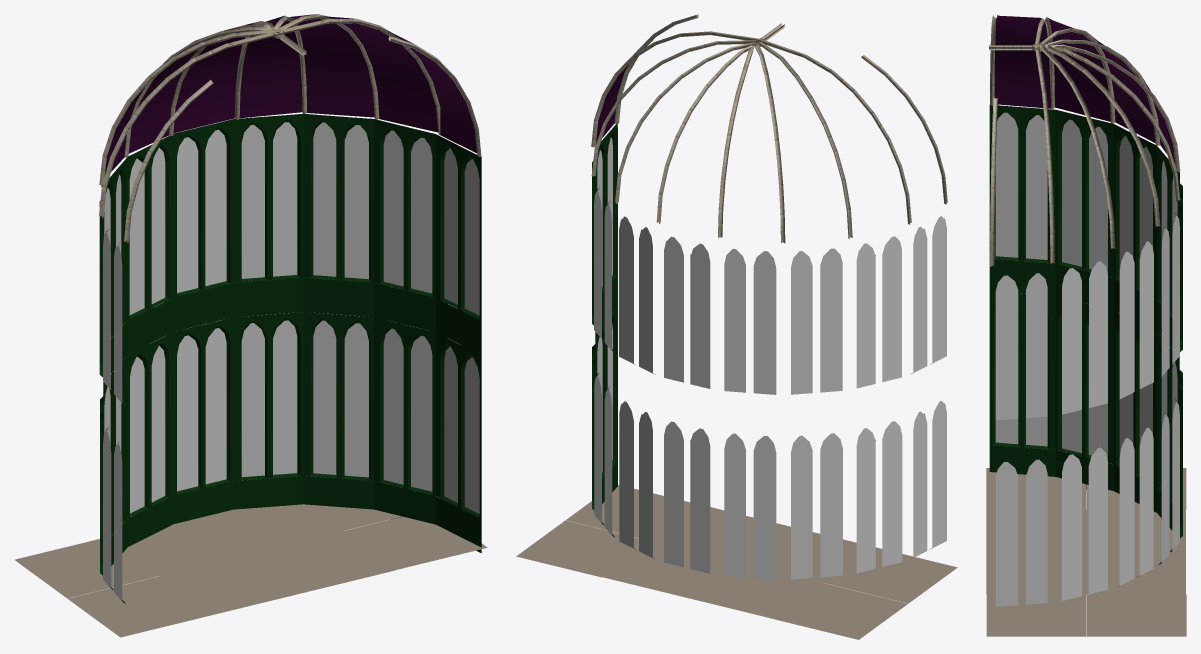
The model's file is Cath_Vault_big1.FBX.
3 renders of one model, left to right at view 1: azimuth 30°, elevation 25°; view 2: azimuth 150°, elevation 25°; view 3: azimuth 270°, elevation 25°, orthographic. The views are drawn at different scales.
Visible parts, largest first — view 1: Vault_window03, Vault_window07, Vault_floor00, Vault_window05, Vault_window06, Vault_window04, Vault_window09, Vault_window01, Vault_window02, Vault_window00, Vault_window08, Vault_03roof (+10 smaller); view 2: Vault_window03, Vault_window07, Vault_floor00, Vault_window06, Vault_window05, Vault_nerve00, Vault_window00, Vault_window08, Vault_window09, Vault_window04, Vault_window02, Vault_window01 (+6 smaller); view 3: Vault_window00, Vault_window04, Vault_window08, Vault_window09, Vault_window05, Vault_window06, Vault_floor00, Vault_nerve00, Vault_window03, Vault_window07, Vault_floor02, Vault_00roof (+9 smaller).
Part boxes in pixels (x1,y1,x2,y2): Vault_window03: (127, 114, 303, 354); Vault_window07: (127, 312, 303, 546); Vault_floor00: (125, 504, 395, 614); Vault_window05: (103, 114, 373, 382); Vault_window06: (103, 312, 373, 565); Vault_window04: (99, 119, 435, 376); Vault_window09: (100, 317, 435, 575); Vault_window01: (173, 119, 233, 331); Vault_window02: (173, 317, 233, 523); Vault_window00: (103, 134, 481, 405); Vault_window08: (103, 332, 481, 603); Vault_03roof: (128, 16, 302, 153); Vault_window03: (619, 216, 776, 394); Vault_window07: (619, 401, 776, 579); Vault_floor00: (602, 507, 856, 618); Vault_window06: (594, 373, 842, 579); Vault_window05: (594, 187, 842, 394); Vault_nerve00: (591, 31, 911, 243); Vault_window00: (595, 124, 946, 374); Vault_window08: (595, 307, 946, 558); Vault_window09: (592, 344, 902, 572); Vault_window04: (592, 161, 901, 388); Vault_window02: (664, 421, 710, 573); Vault_window01: (664, 236, 710, 388); Vault_window00: (989, 105, 1055, 420); Vault_window04: (1055, 110, 1113, 414); Vault_window08: (989, 291, 1055, 606); Vault_window09: (1055, 296, 1113, 600); Vault_window05: (1113, 124, 1156, 399); Vault_window06: (1113, 310, 1156, 586); Vault_floor00: (986, 510, 1185, 594); Vault_nerve00: (1032, 17, 1180, 263); Vault_window03: (1157, 146, 1179, 378); Vault_window07: (1157, 332, 1179, 564); Vault_floor02: (1087, 594, 1186, 636); Vault_00roof: (994, 15, 1051, 108).
Size of the model in its own units: 1575 by 791 by 2240.
